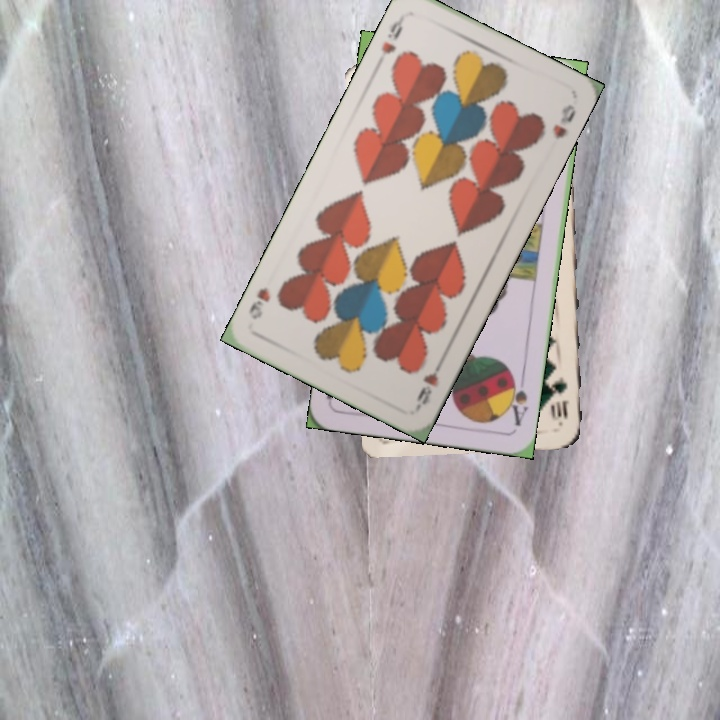G10: (549, 373, 571, 426)
H9: (412, 355, 447, 411), (373, 11, 407, 66)
SA: (503, 369, 531, 429)
